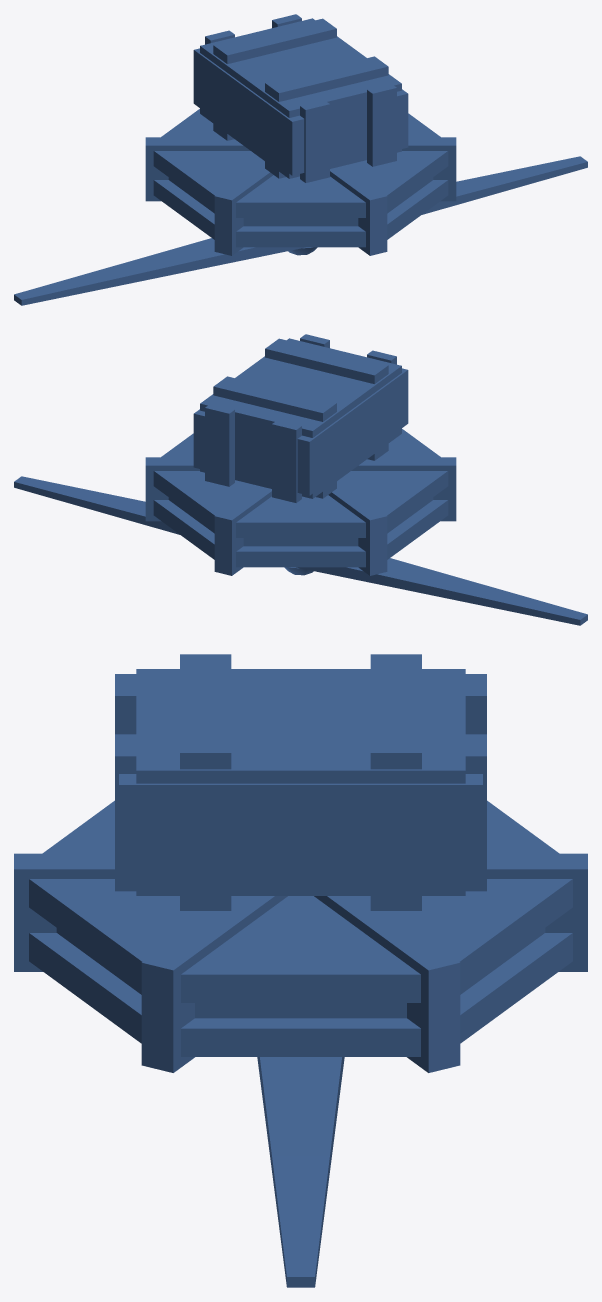
Rendered from CrateSpeed.fbx.
3 renders of one model, top to bottom at view 1: azimuth 30°, elevation 25°; view 2: azimuth 150°, elevation 25°; view 3: azimuth 270°, elevation 25°, orthographic. The views are drawn at different scales.
Visible parts, largest first — view 1: Cube.016, Cube.019, Cube.026; view 2: Cube.016, Cube.019, Cube.026; view 3: Cube.016, Cube.019, Cube.026.
Part boxes in pixels (box(x1,y1,x2,y2)): Cube.016: box(145, 109, 456, 255); Cube.019: box(193, 14, 408, 182); Cube.026: box(14, 156, 587, 305); Cube.016: box(145, 429, 456, 575); Cube.019: box(193, 334, 408, 502); Cube.026: box(14, 476, 587, 625); Cube.016: box(14, 800, 587, 1072); Cube.019: box(115, 654, 486, 910); Cube.026: box(257, 1057, 344, 1287).
Size of the model in its own units: 427 by 143 by 203.
